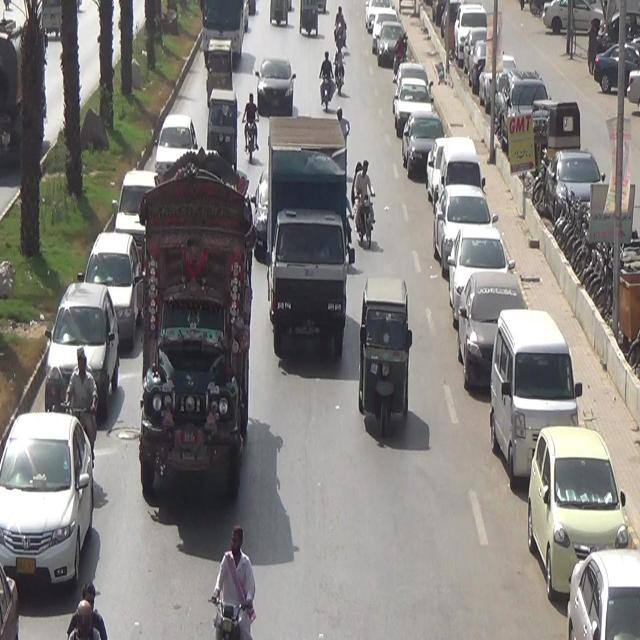car: (0, 413, 102, 600), (37, 274, 126, 446), (75, 217, 141, 333), (105, 156, 155, 238), (149, 106, 198, 184), (257, 50, 301, 118)
motorbike: (201, 520, 265, 640), (68, 347, 100, 466), (353, 151, 377, 250), (243, 82, 261, 174), (315, 54, 340, 118), (331, 10, 354, 64)
truck: (143, 170, 247, 512), (265, 120, 356, 371)
